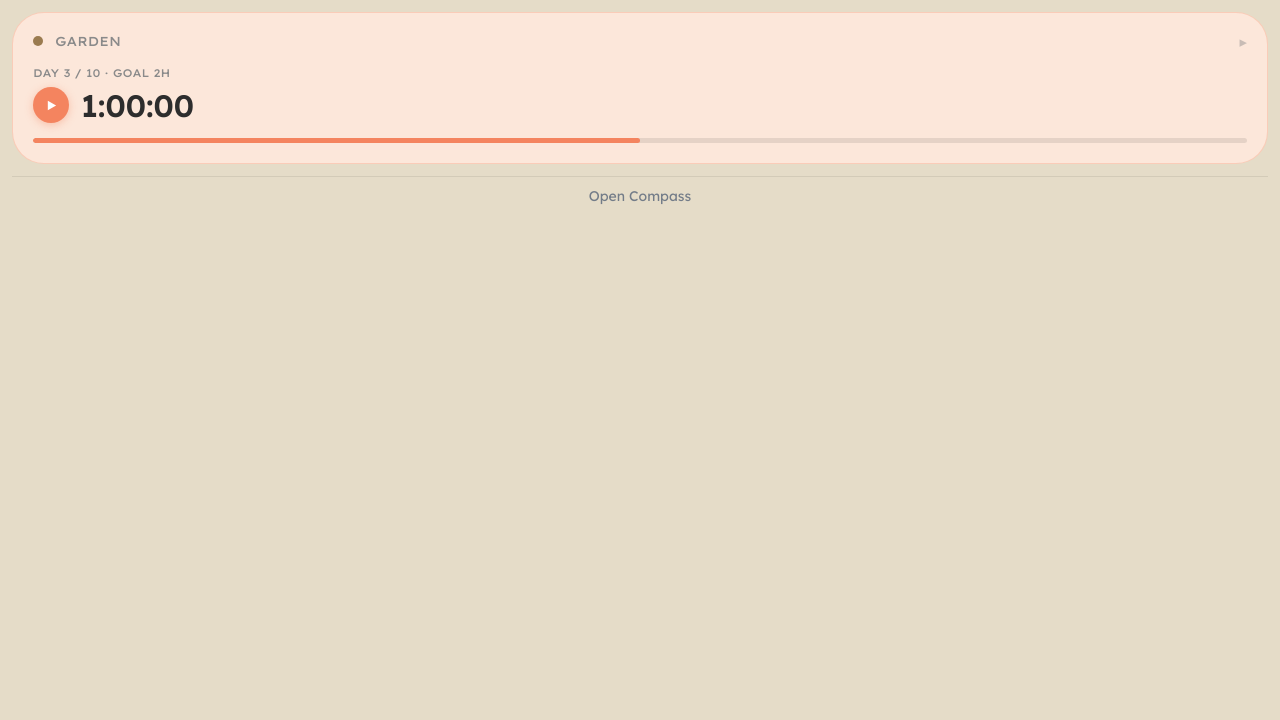
Test: the companion's summary › opens on a press on the card, grows the window, and shows the other three cards in short
Step 1. Click the element with class "bubble-time" → {"x": 640, "y": 88}, box [12, 12, 1268, 164]
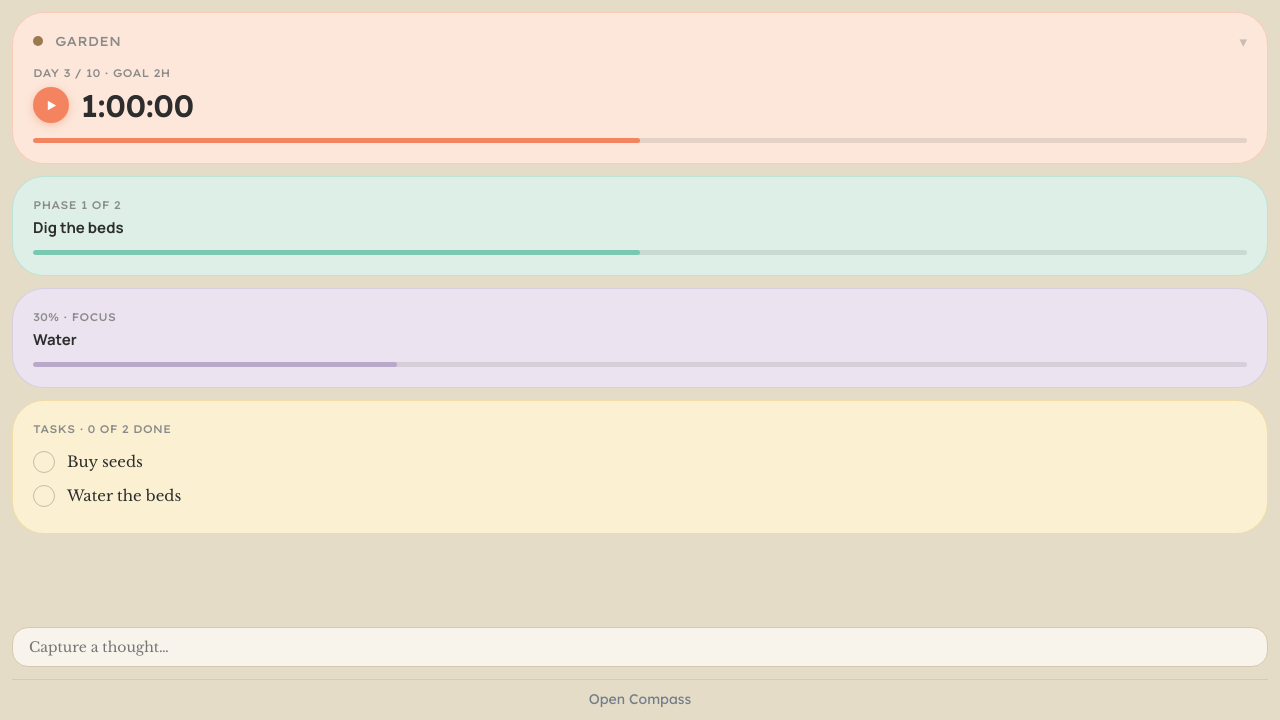
Now the element with class "companion" shows "Phase 1 of 2", box [33, 198, 121, 212]
Now the element with class "companion" shows "Dig the beds", box [33, 217, 124, 238]
Now the element with class "companion" shows "30% · Focus", box [33, 310, 116, 324]
Step 2. Click the button "▾" → {"x": 1243, "y": 41}, box [1240, 34, 1247, 49]
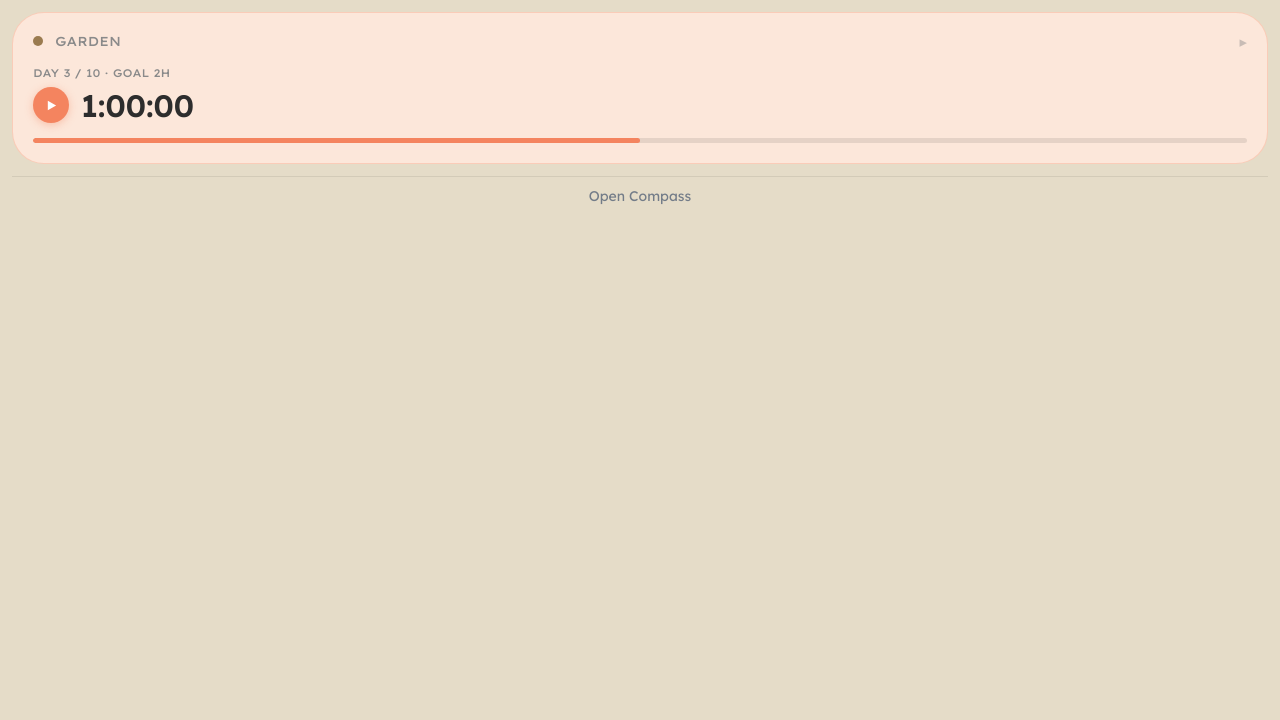
Now the element with class "companion-summary" is gone
